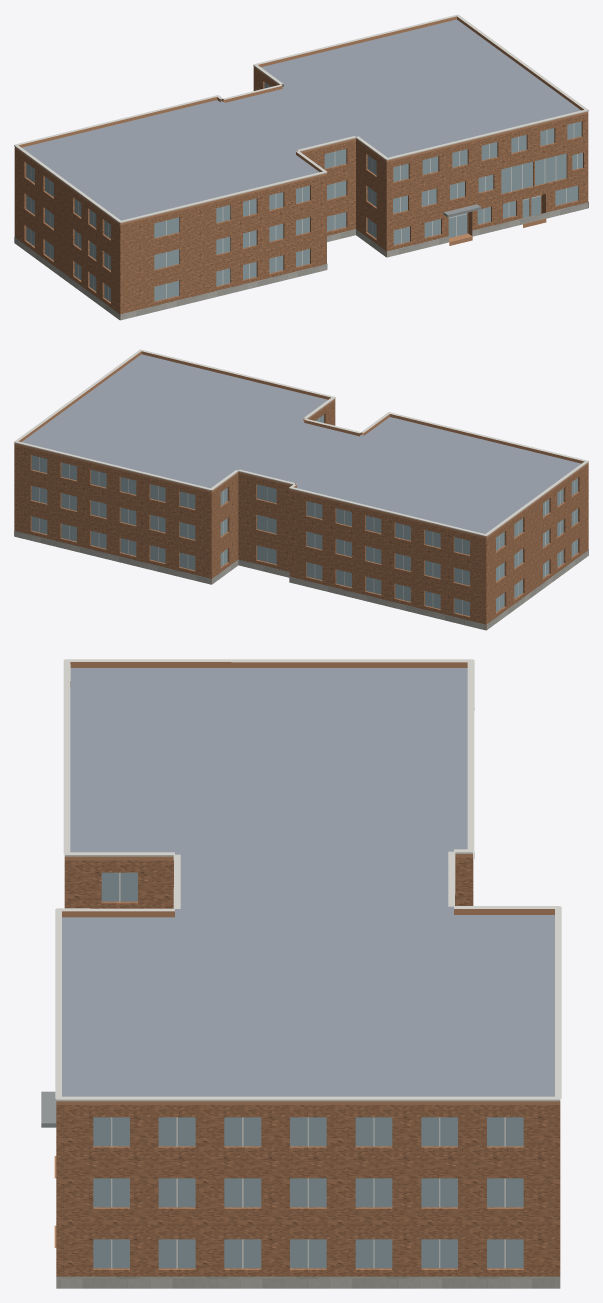
3 views of the same model, one above another, from view 1: azimuth 30°, elevation 25°; view 2: azimuth 150°, elevation 25°; view 3: azimuth 270°, elevation 25° (orthographic). The views are drawn at different scales.
Parts seen in each view (by area): view 1: b117908745__roof, b117908745__wall, b117908745__glass, b117908745__trim, b117908745__parapet, b117908745__base, b117908745__frame; view 2: b117908745__roof, b117908745__wall, b117908745__glass, b117908745__base, b117908745__trim, b117908745__parapet, b117908745__frame; view 3: b117908745__roof, b117908745__wall, b117908745__glass, b117908745__trim, b117908745__base, b117908745__parapet, b117908745__frame.
Part boxes in pixels (x1=…): b117908745__roof: x1=22, y1=19, x2=580, y2=220; b117908745__wall: x1=14, y1=68, x2=588, y2=319; b117908745__glass: x1=26, y1=82, x2=582, y2=301; b117908745__trim: x1=14, y1=14, x2=588, y2=223; b117908745__parapet: x1=14, y1=16, x2=588, y2=225; b117908745__base: x1=14, y1=202, x2=588, y2=320; b117908745__frame: x1=31, y1=85, x2=577, y2=300; b117908745__roof: x1=21, y1=354, x2=580, y2=533; b117908745__wall: x1=14, y1=400, x2=588, y2=630; b117908745__glass: x1=31, y1=415, x2=577, y2=616; b117908745__base: x1=14, y1=530, x2=588, y2=630; b117908745__trim: x1=14, y1=349, x2=588, y2=536; b117908745__parapet: x1=14, y1=351, x2=588, y2=538; b117908745__frame: x1=39, y1=418, x2=574, y2=614; b117908745__roof: x1=62, y1=668, x2=554, y2=1096; b117908745__wall: x1=56, y1=857, x2=560, y2=1276; b117908745__glass: x1=93, y1=872, x2=523, y2=1268; b117908745__trim: x1=55, y1=659, x2=561, y2=1101; b117908745__base: x1=56, y1=852, x2=560, y2=1288; b117908745__parapet: x1=56, y1=662, x2=560, y2=1104; b117908745__frame: x1=111, y1=872, x2=505, y2=1268.
Size of the model in its own units: 55.62 by 11.55 by 27.78.
Materials: 12 (2 with a texture image).
